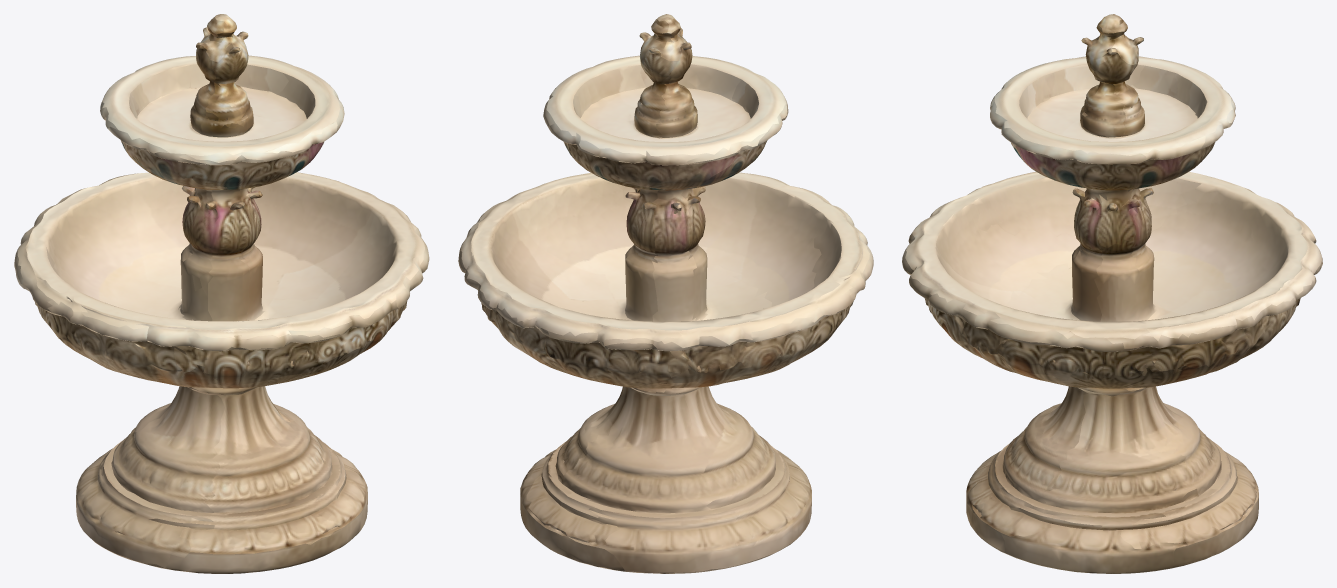
The model's file is unified--fountain.glb.
The picture shows the model from 3 angles, left to right: view 1: azimuth 30°, elevation 25°; view 2: azimuth 150°, elevation 25°; view 3: azimuth 270°, elevation 25°; orthographic projection.
Parts seen in each view (by area): view 1: fountain-0; view 2: fountain-0; view 3: fountain-0.
Boxes of the visible parts, <box> form: fountain-0: <box>14,14,429,573</box>; fountain-0: <box>458,14,873,573</box>; fountain-0: <box>902,14,1322,573</box>.
Size of the model in its own units: 0.6496 by 0.85 by 0.6521.
Materials: 1 (1 with a texture image).
